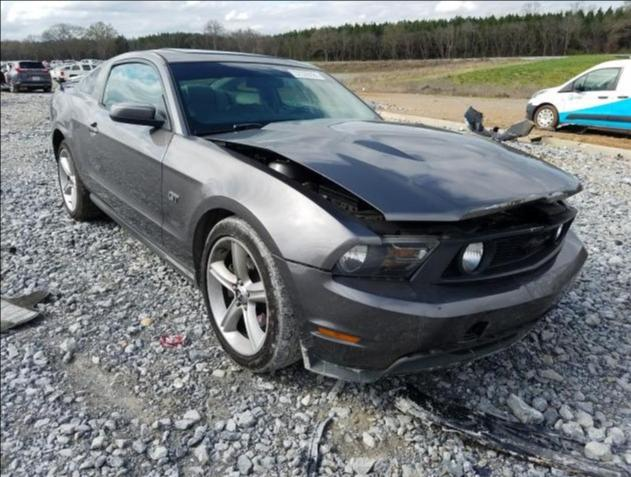Broken part: (199, 138, 578, 241)
Missing part: (457, 321, 489, 343)
Paint chip: (415, 326, 532, 372), (300, 342, 339, 379), (459, 200, 521, 220), (523, 191, 567, 203), (314, 356, 341, 368), (348, 367, 366, 372)
Scratch: (309, 331, 366, 347)
